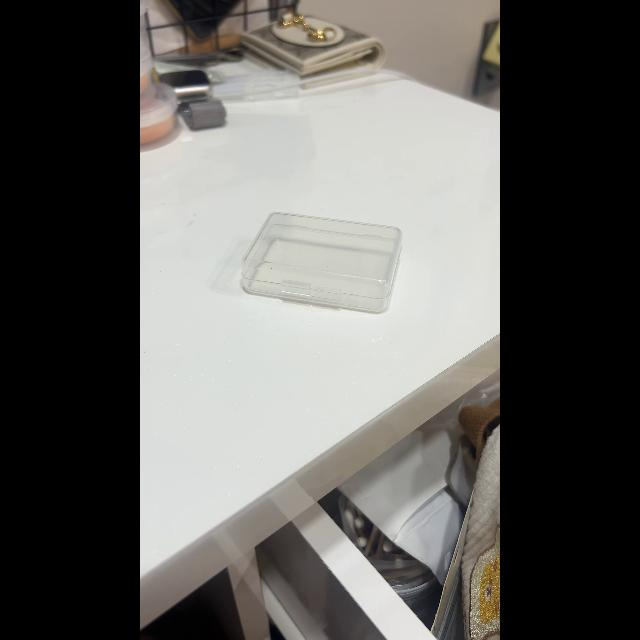clean: (233, 207, 409, 313)
